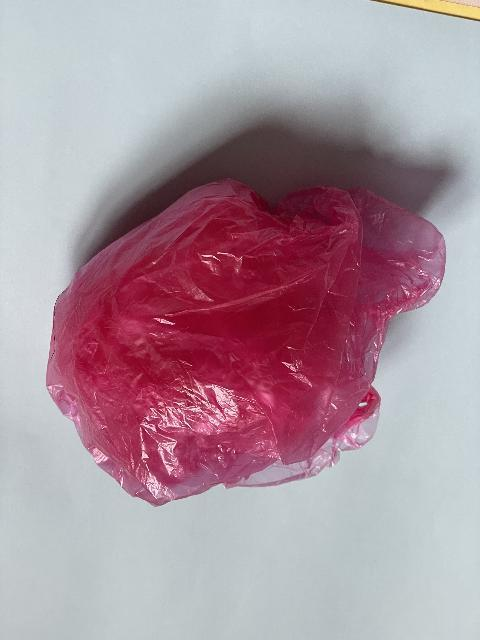plasticbag: (46, 178, 448, 508)
